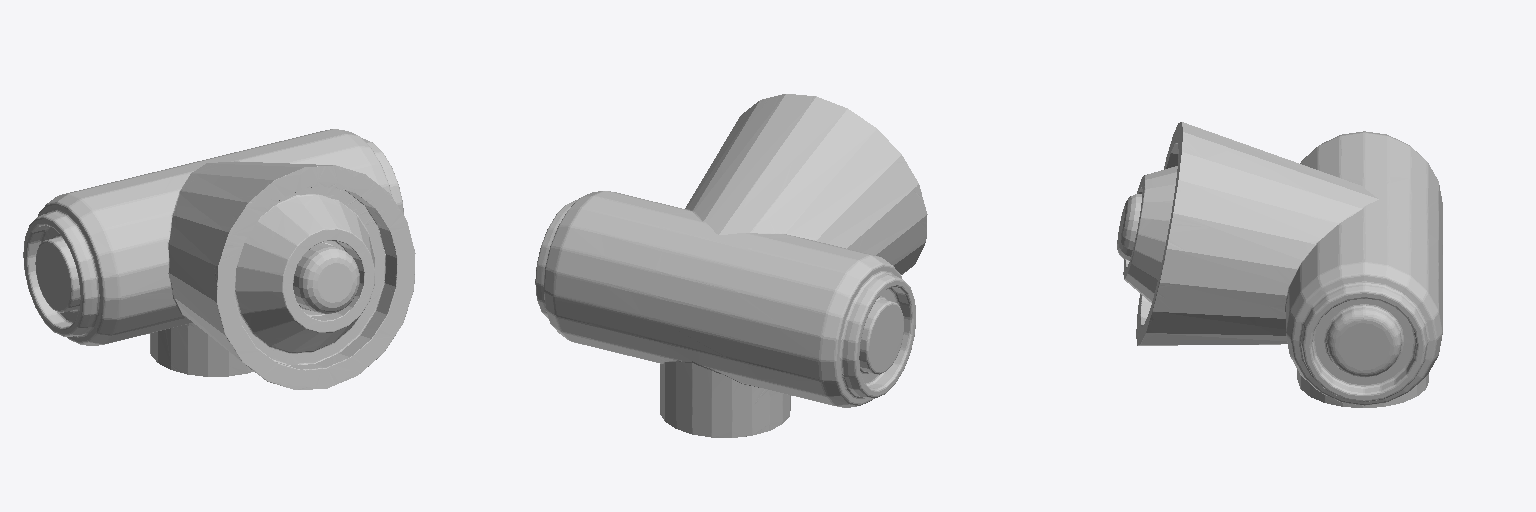
Rendered from WALLE_E_HEAD_HOLLOW_1MM_Positioned.obj.
The picture shows the model from 3 angles: view 1: azimuth 30°, elevation 25°; view 2: azimuth 150°, elevation 25°; view 3: azimuth 270°, elevation 25°; orthographic projection.
Parts seen in each view (by area): view 1: WALLE_E_HEAD_HOLLOW_1MM:Mesh; view 2: WALLE_E_HEAD_HOLLOW_1MM:Mesh; view 3: WALLE_E_HEAD_HOLLOW_1MM:Mesh.
Boxes of the visible parts, x1,y1,x2,y2 form: WALLE_E_HEAD_HOLLOW_1MM:Mesh: [23, 129, 415, 389]; WALLE_E_HEAD_HOLLOW_1MM:Mesh: [535, 94, 927, 437]; WALLE_E_HEAD_HOLLOW_1MM:Mesh: [1117, 122, 1442, 407].
Bounding box in the file's own units: 8.02 × 5.92 × 7.04.